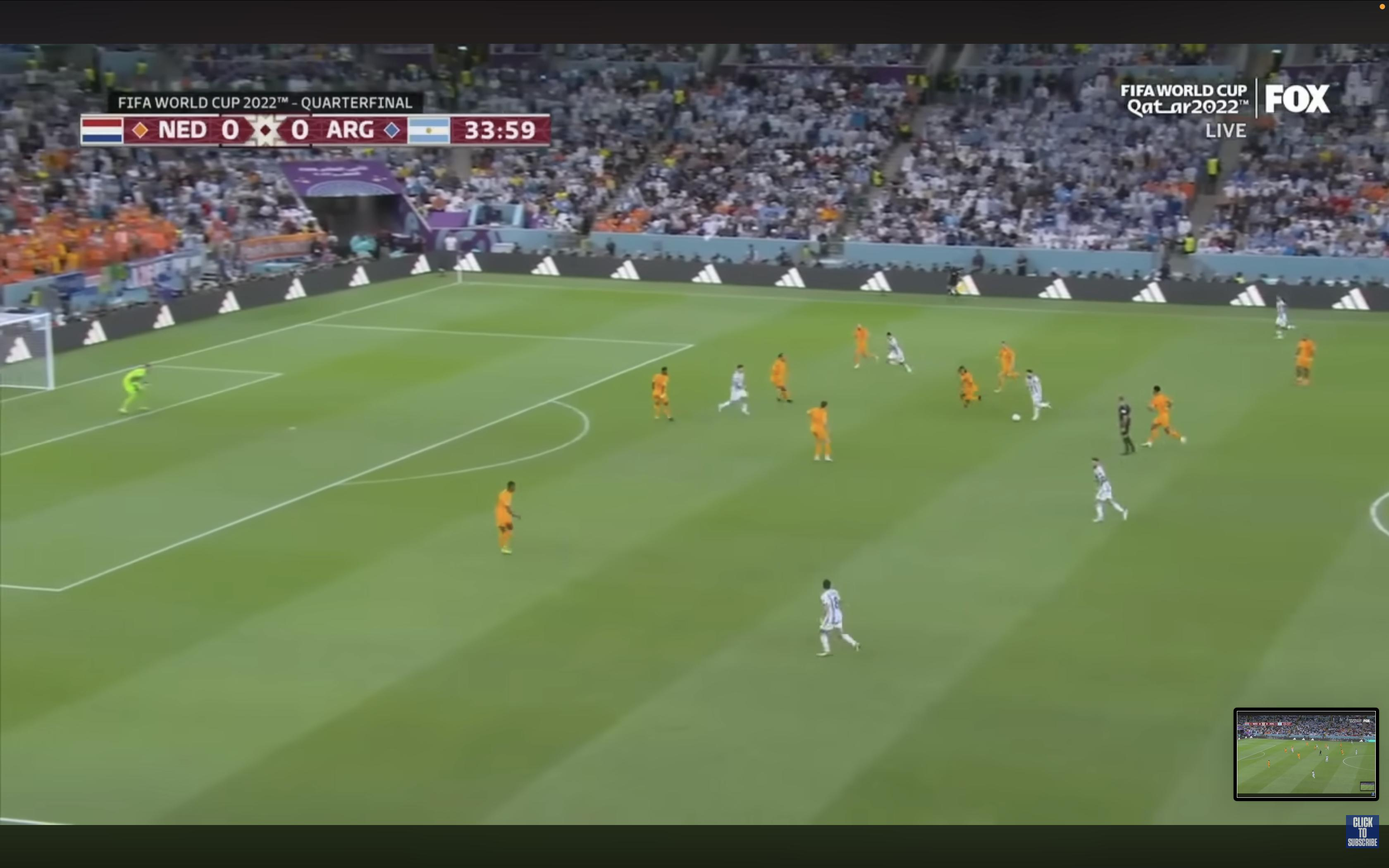ball: (1012, 413, 1021, 422)
goalkeeper: (117, 365, 150, 415)
player: (819, 579, 861, 656), (1143, 386, 1186, 447), (1092, 458, 1128, 522), (494, 481, 518, 554), (718, 365, 749, 414), (807, 401, 832, 461), (1025, 370, 1051, 422), (995, 342, 1018, 393), (652, 367, 673, 421), (770, 354, 792, 403), (1295, 336, 1316, 385), (886, 332, 911, 373), (957, 366, 981, 408), (854, 324, 877, 367), (1275, 296, 1292, 339)
referee: (1118, 396, 1136, 455)
